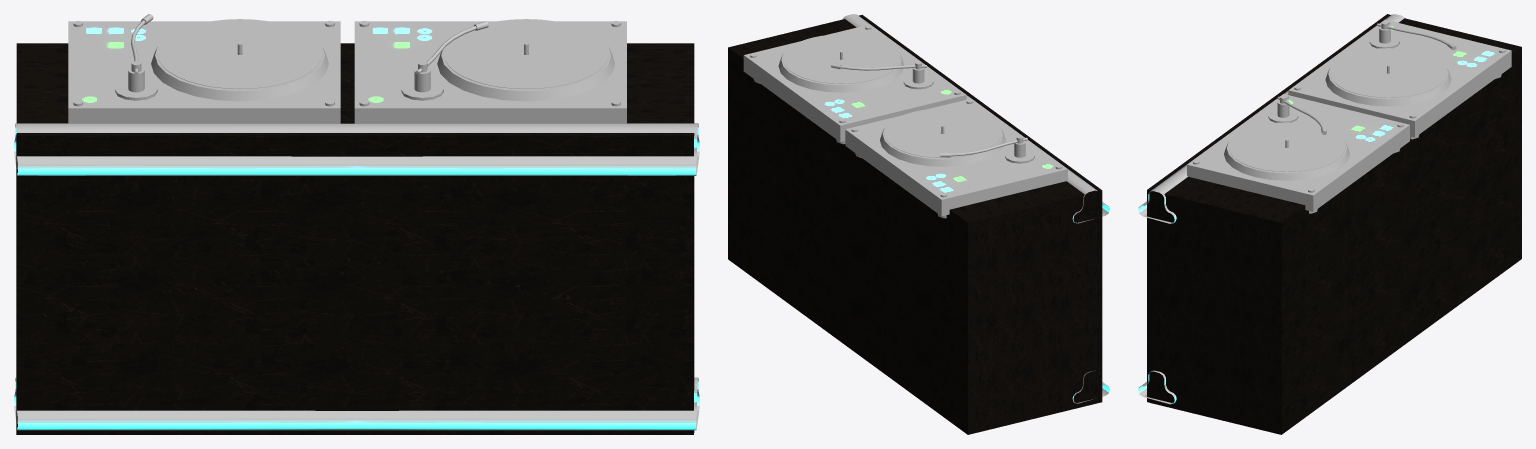
File: DJ_Table.fbx
The picture shows the model from 3 angles, left to right: view 1: azimuth 30°, elevation 25°; view 2: azimuth 150°, elevation 25°; view 3: azimuth 270°, elevation 25°; orthographic projection. The views are drawn at different scales.
Visible parts, largest first — view 1: DJ_Table; view 2: DJ_Table; view 3: DJ_Table.
Part boxes in pixels (bbox=[...]): DJ_Table: bbox=[14, 14, 699, 434]; DJ_Table: bbox=[728, 14, 1109, 434]; DJ_Table: bbox=[1138, 14, 1521, 434].
Size of the model in its own units: 213 by 115 by 164.
